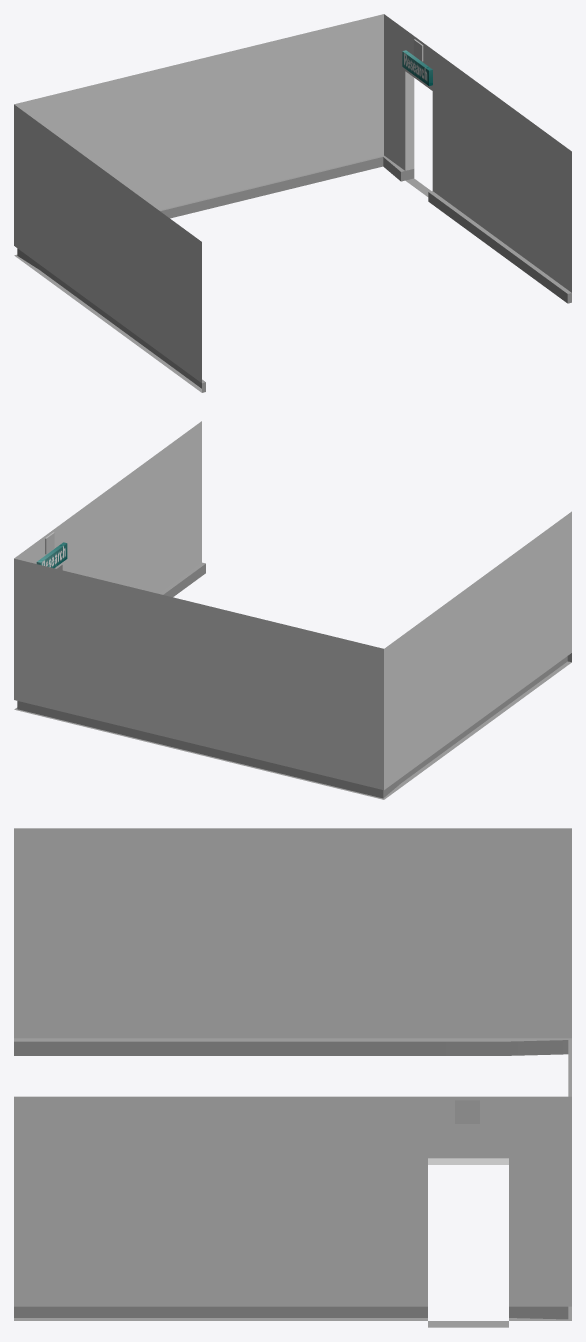
The model's file is wallsfinall.fbx.
3 views of the same model, one above another, from view 1: azimuth 30°, elevation 25°; view 2: azimuth 150°, elevation 25°; view 3: azimuth 270°, elevation 25° (orthographic). The views are drawn at different scales.
Parts seen in each view (by area): view 1: polySurface53, pCube25; view 2: polySurface53; view 3: polySurface53.
Boxes of the visible parts, bbox=[...] form: polySurface53: bbox=[14, 14, 571, 392]; pCube25: bbox=[402, 50, 432, 85]; polySurface53: bbox=[14, 421, 571, 799]; polySurface53: bbox=[14, 828, 571, 1327].
Bounding box in the file's own units: 204 × 77.71 × 175.
